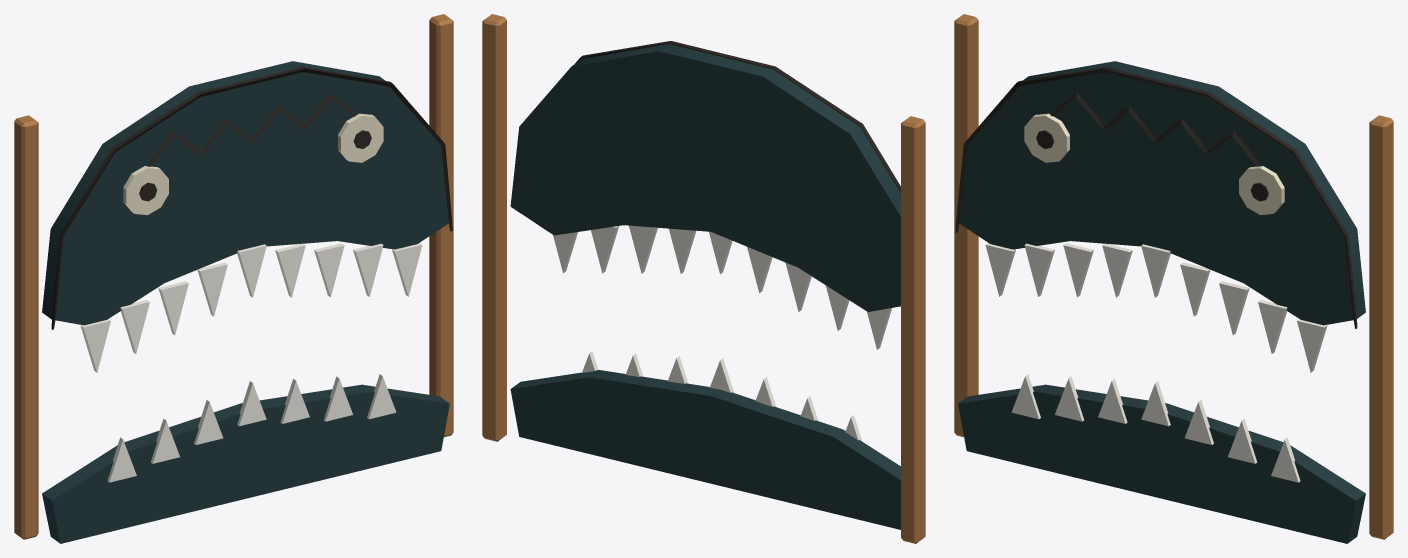
The model's file is FishProp.fbx.
3 views of the same model, side by side, from view 1: azimuth 30°, elevation 25°; view 2: azimuth 150°, elevation 25°; view 3: azimuth 330°, elevation 25° (orthographic).
Visible parts, largest first — view 1: Prop; view 2: Prop; view 3: Prop.
Boxes of the visible parts, x1,y1,x2,y2 form: Prop: [14, 14, 453, 543]; Prop: [482, 14, 925, 543]; Prop: [954, 14, 1393, 543].
Size of the model in its own units: 2.5 by 2.31 by 0.27.
